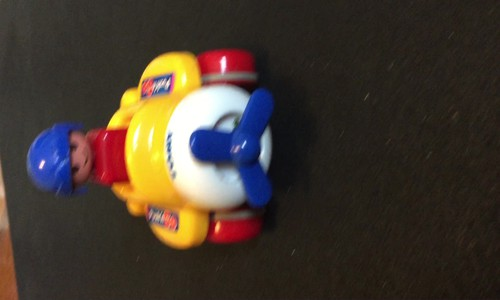toy: (20, 46, 277, 246)
